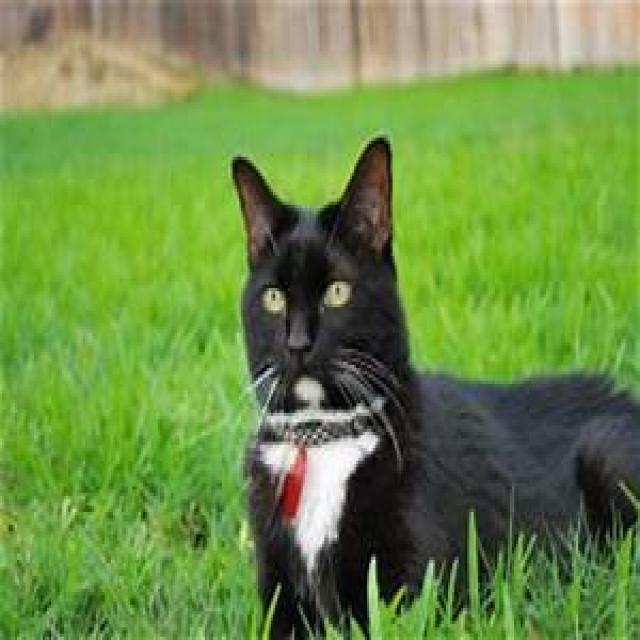animal: (200, 130, 640, 598)
